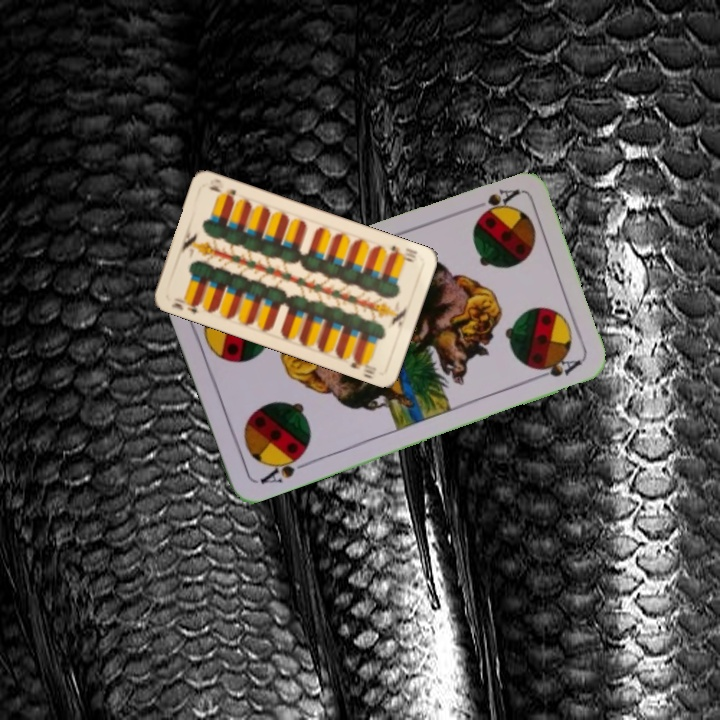E10: (386, 241, 420, 265), (167, 296, 204, 316)
SA: (256, 449, 311, 487), (478, 185, 522, 216)
